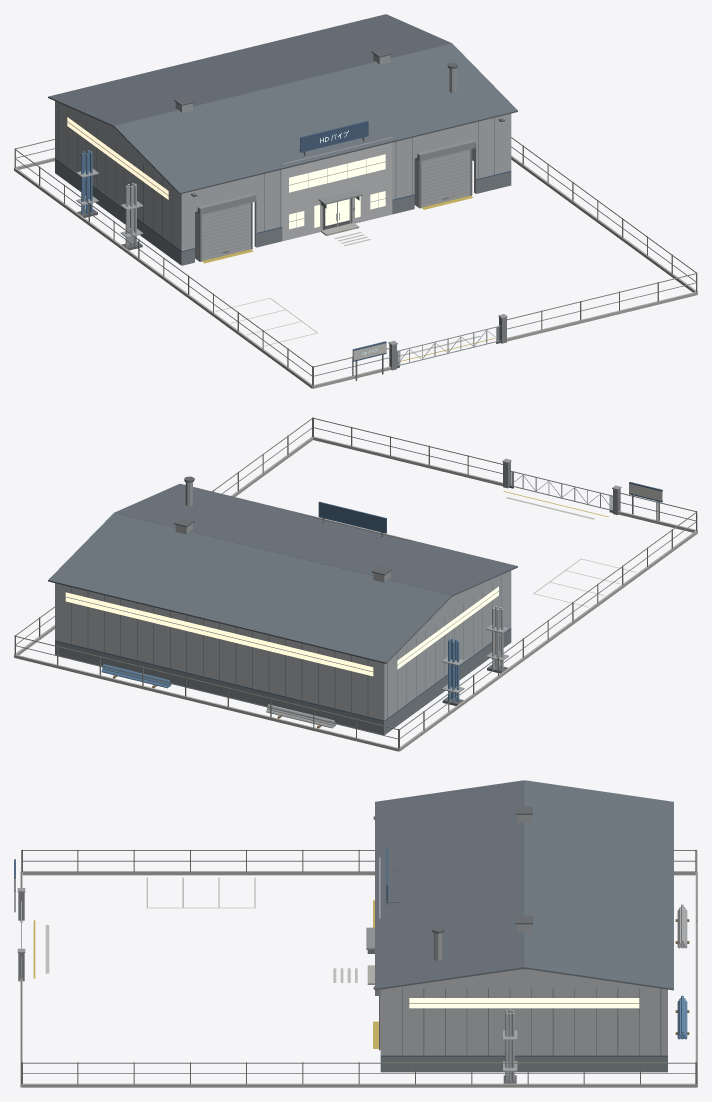
File: biz_4003.glb
3 renders of one model, top to bottom at view 1: azimuth 30°, elevation 25°; view 2: azimuth 150°, elevation 25°; view 3: azimuth 270°, elevation 25°, orthographic. The views are drawn at different scales.
Visible parts, largest first — view 1: Static, Shutter_Down, Windows, Gate_Closed; view 2: Static, Windows, Gate_Closed; view 3: Static, Windows.
Part boxes in pixels (left/top/right/bottom): Static: left=14, top=14, right=697, bottom=388; Shutter_Down: left=201, top=149, right=470, bottom=260; Windows: left=67, top=117, right=385, bottom=229; Gate_Closed: left=397, top=326, right=500, bottom=368; Static: left=14, top=417, right=697, bottom=751; Windows: left=65, top=586, right=498, bottom=676; Gate_Closed: left=509, top=471, right=612, bottom=512; Static: left=14, top=780, right=697, bottom=1087; Windows: left=409, top=998, right=639, bottom=1008.
Size of the model in its own units: 35.16 by 9.57 by 47.6.
